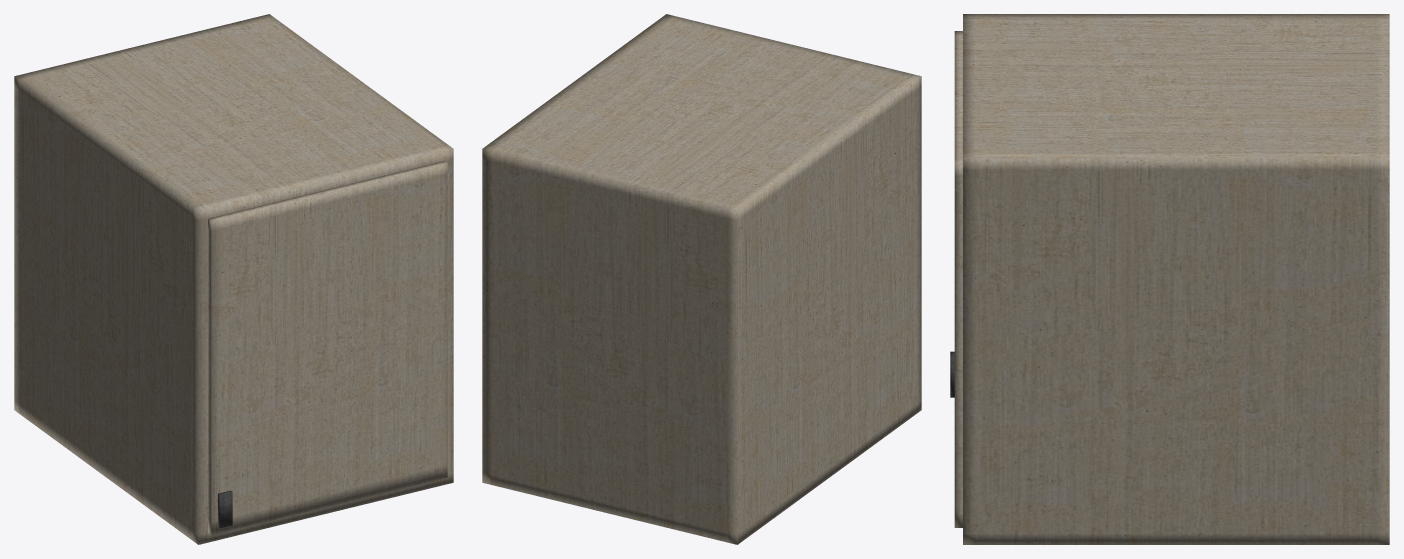
File: cabinet.high.002.fbx
The picture shows the model from 3 angles, left to right: view 1: azimuth 30°, elevation 25°; view 2: azimuth 150°, elevation 25°; view 3: azimuth 270°, elevation 25°; orthographic projection. The views are drawn at different scales.
Visible parts, largest first — view 1: Base, Drawer.001, Handle.001; view 2: Base; view 3: Base, Drawer.001.
Boxes of the visible parts, x1,y1,x2,y2 form: Base: (14,14,453,544); Drawer.001: (208,161,447,535); Handle.001: (218,490,232,528); Base: (482,14,921,544); Base: (963,14,1389,544); Drawer.001: (954,31,962,527).
Size of the model in its own units: 80 by 100 by 103.
